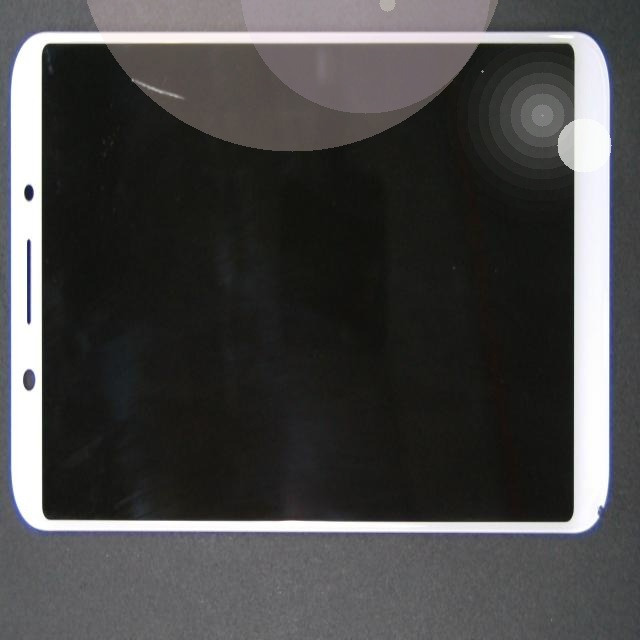scratch: (134, 63, 263, 122)
